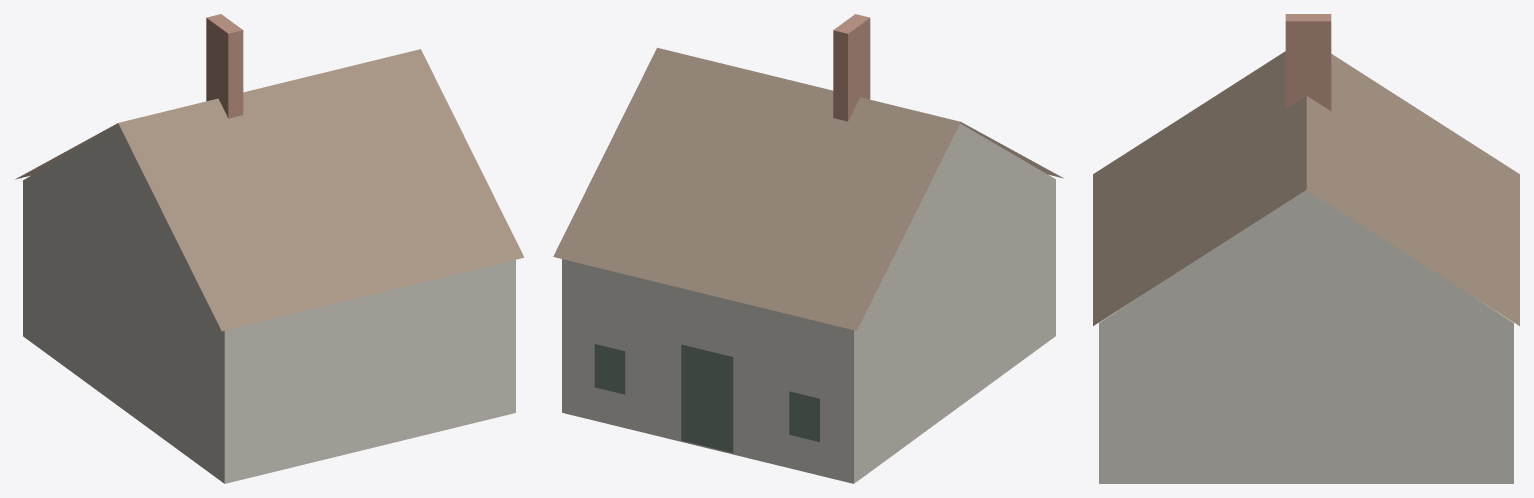
File: recon_1835_south_d6_012__recommended_1835.glb
The picture shows the model from 3 angles, left to right: view 1: azimuth 30°, elevation 25°; view 2: azimuth 150°, elevation 25°; view 3: azimuth 270°, elevation 25°; orthographic projection. The views are drawn at different scales.
Parts seen in each view (by area): view 1: recon_1835_south_d6_012__recommended_1835; view 2: recon_1835_south_d6_012__recommended_1835; view 3: recon_1835_south_d6_012__recommended_1835.
Part boxes in pixels (<box>): recon_1835_south_d6_012__recommended_1835: <box>15,14,524,483</box>; recon_1835_south_d6_012__recommended_1835: <box>553,14,1063,483</box>; recon_1835_south_d6_012__recommended_1835: <box>1093,14,1519,483</box>.
Size of the model in its own units: 7.31 by 8.32 by 8.67.
